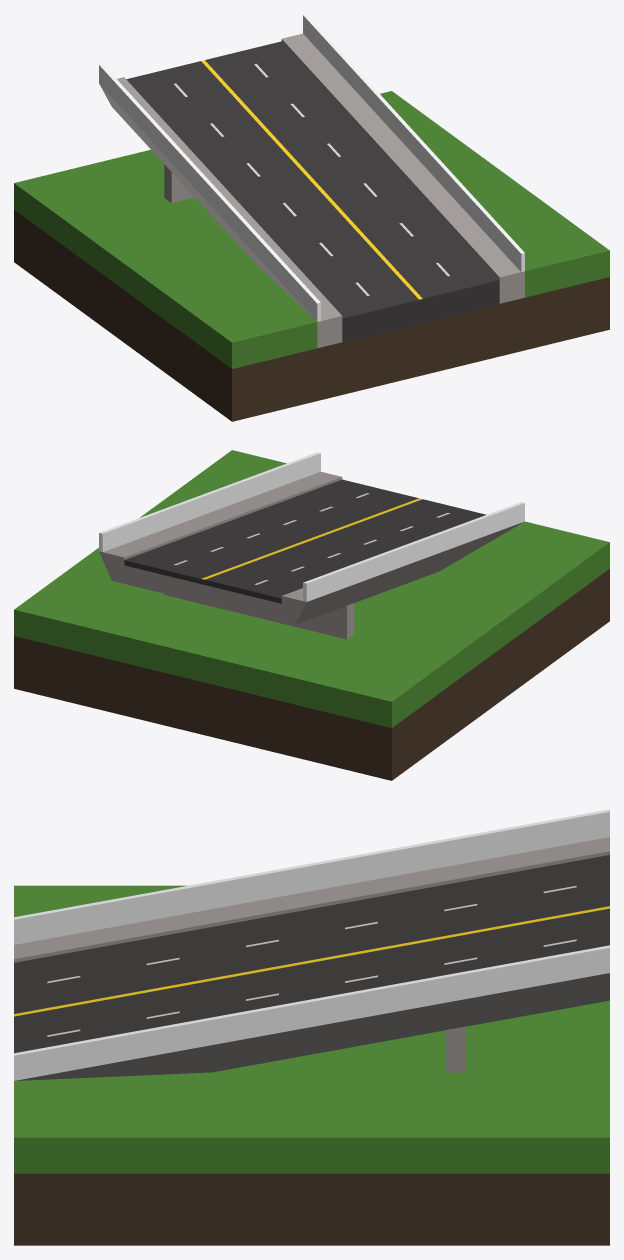
The model's file is tiles_tile-bridge-mainroad-hill.fbx.
3 views of the same model, one above another, from view 1: azimuth 30°, elevation 25°; view 2: azimuth 150°, elevation 25°; view 3: azimuth 270°, elevation 25° (orthographic). The views are drawn at different scales.
Visible parts, largest first — view 1: tiles_tile_bridge_mainroad_hill; view 2: tiles_tile_bridge_mainroad_hill; view 3: tiles_tile_bridge_mainroad_hill.
Boxes of the visible parts, box(x1,y1,x2,y2) form: tiles_tile_bridge_mainroad_hill: box(14, 14, 609, 421); tiles_tile_bridge_mainroad_hill: box(14, 450, 609, 780); tiles_tile_bridge_mainroad_hill: box(14, 809, 609, 1245).
Bounding box in the file's own units: 200 × 89.33 × 200.
